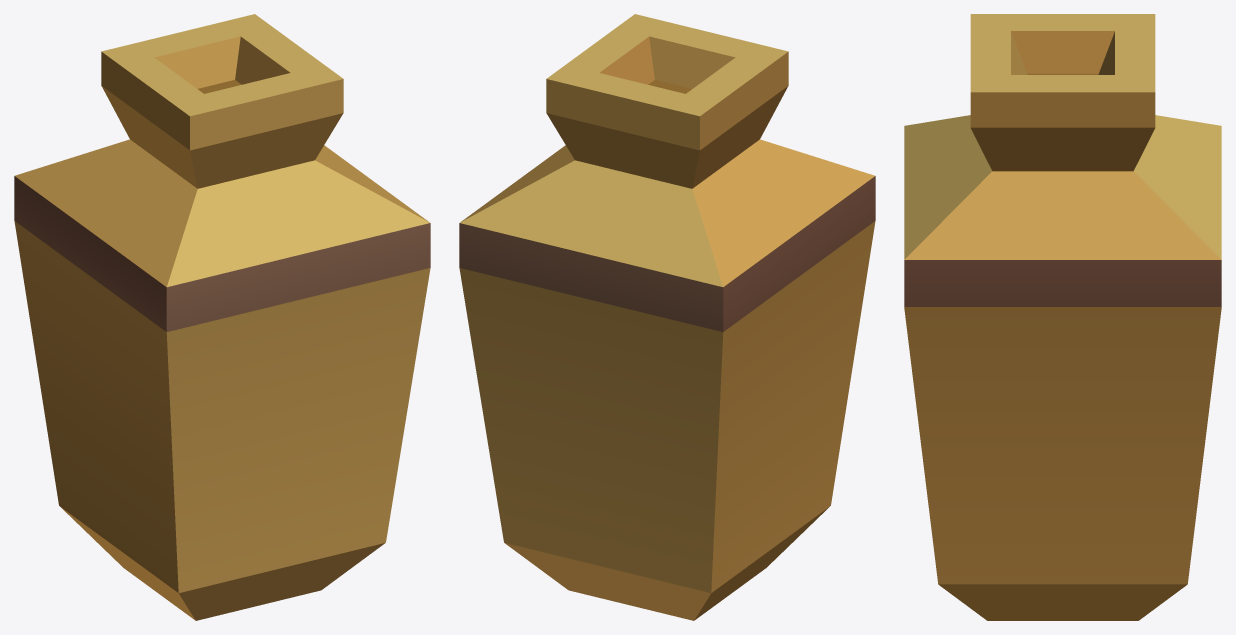
Rendered from ST_Prop_Vase_06.fbx.
3 renders of one model, left to right at view 1: azimuth 30°, elevation 25°; view 2: azimuth 150°, elevation 25°; view 3: azimuth 270°, elevation 25°, orthographic. The views are drawn at different scales.
Visible parts, largest first — view 1: ST_Prop_Vase_06; view 2: ST_Prop_Vase_06; view 3: ST_Prop_Vase_06.
Boxes of the visible parts, x1,y1,x2,y2 form: ST_Prop_Vase_06: (14, 14, 430, 620); ST_Prop_Vase_06: (459, 14, 875, 620); ST_Prop_Vase_06: (904, 14, 1221, 620).
Bounding box in the file's own units: 1 × 1.87 × 1.
